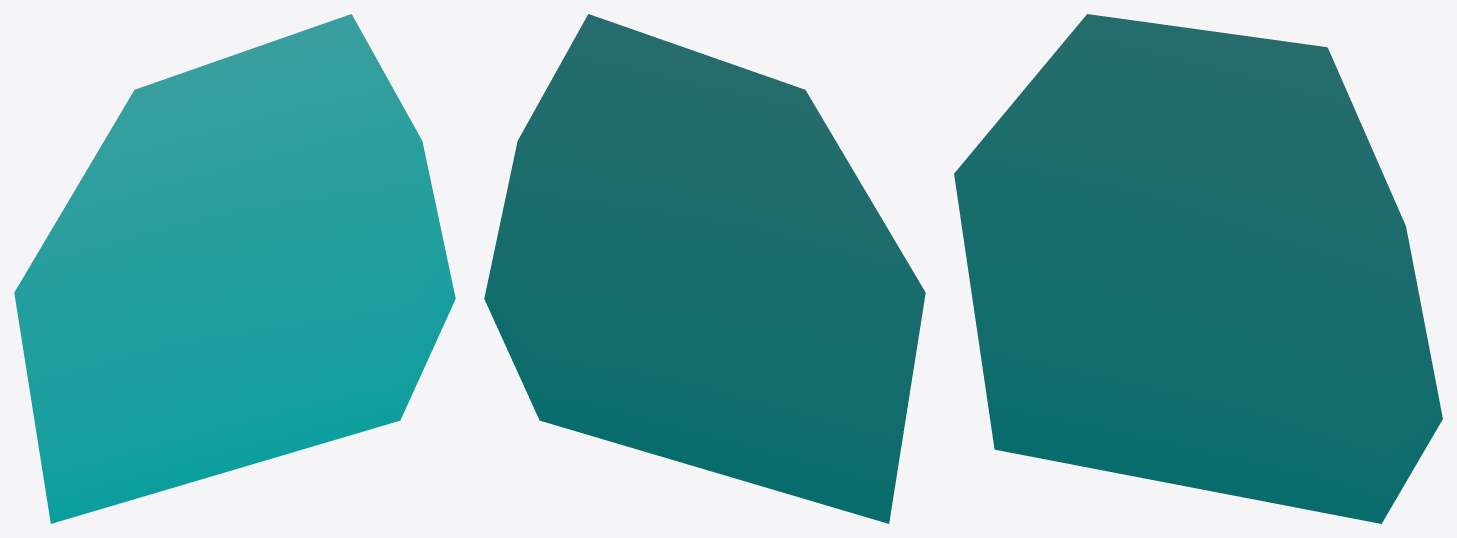
File: Sage_ve3gbfoja_Mid_ve3gbfoja_VarF_LOD3.fbx
3 renders of one model, left to right at view 1: azimuth 30°, elevation 25°; view 2: azimuth 150°, elevation 25°; view 3: azimuth 330°, elevation 25°, orthographic. The views are drawn at different scales.
Visible parts, largest first — view 1: _seeq_VarF_LOD5; view 2: _seeq_VarF_LOD5; view 3: _seeq_VarF_LOD5.
Part boxes in pixels (x1,y1,x2,y2): _seeq_VarF_LOD5: (14,14,455,523); _seeq_VarF_LOD5: (484,14,925,523); _seeq_VarF_LOD5: (954,14,1442,523).
Size of the model in its own units: 50.1 by 47.36 by 0.
